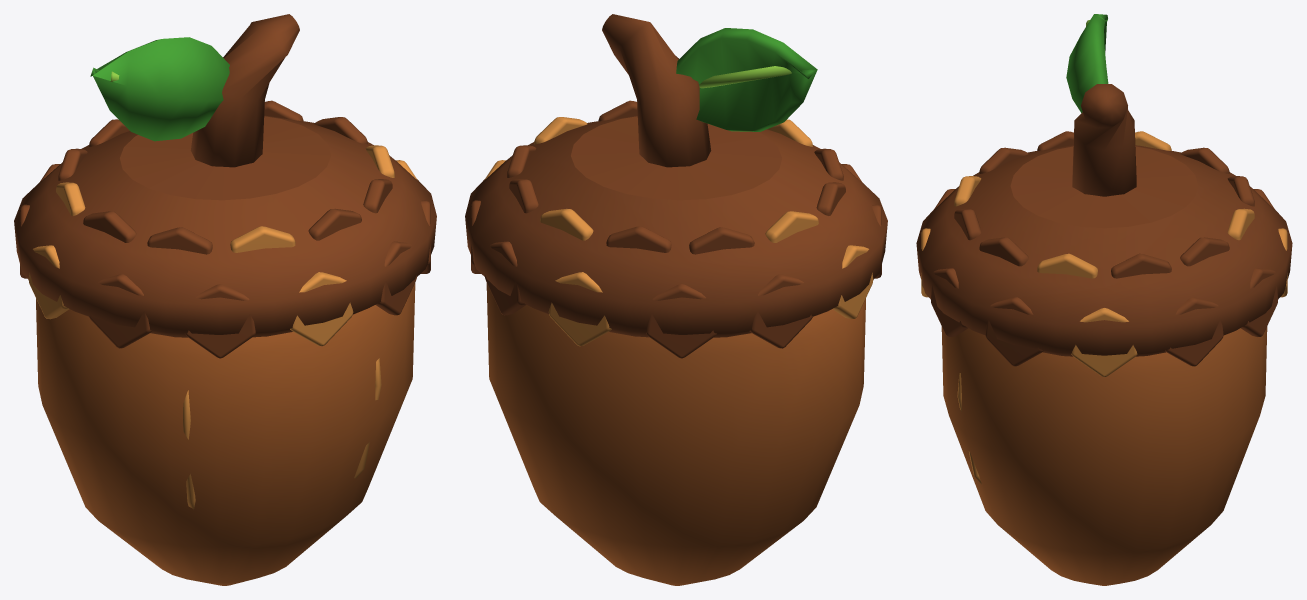
Rendered from acorn.glb.
3 views of the same model, side by side, from view 1: azimuth 30°, elevation 25°; view 2: azimuth 150°, elevation 25°; view 3: azimuth 270°, elevation 25° (orthographic). The views are drawn at different scales.
Parts seen in each view (by area): view 1: acorn_runtime; view 2: acorn_runtime; view 3: acorn_runtime.
Part boxes in pixels (x1=…): acorn_runtime: x1=14, y1=14, x2=436, y2=585; acorn_runtime: x1=465, y1=14, x2=887, y2=585; acorn_runtime: x1=916, y1=14, x2=1292, y2=585.
Size of the model in its own units: 0.8955 by 1.3 by 0.8418.
1 material, 1 textured.
